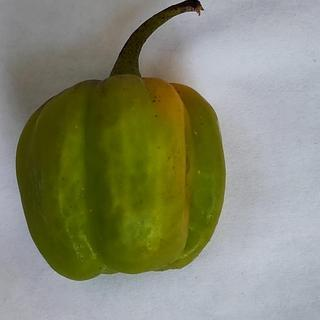Grade-B: (11, 72, 231, 281)
